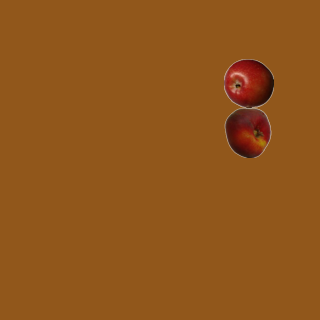Apple Braeburn: (223, 58, 273, 108)
Nectarine Flat: (222, 107, 272, 157)
